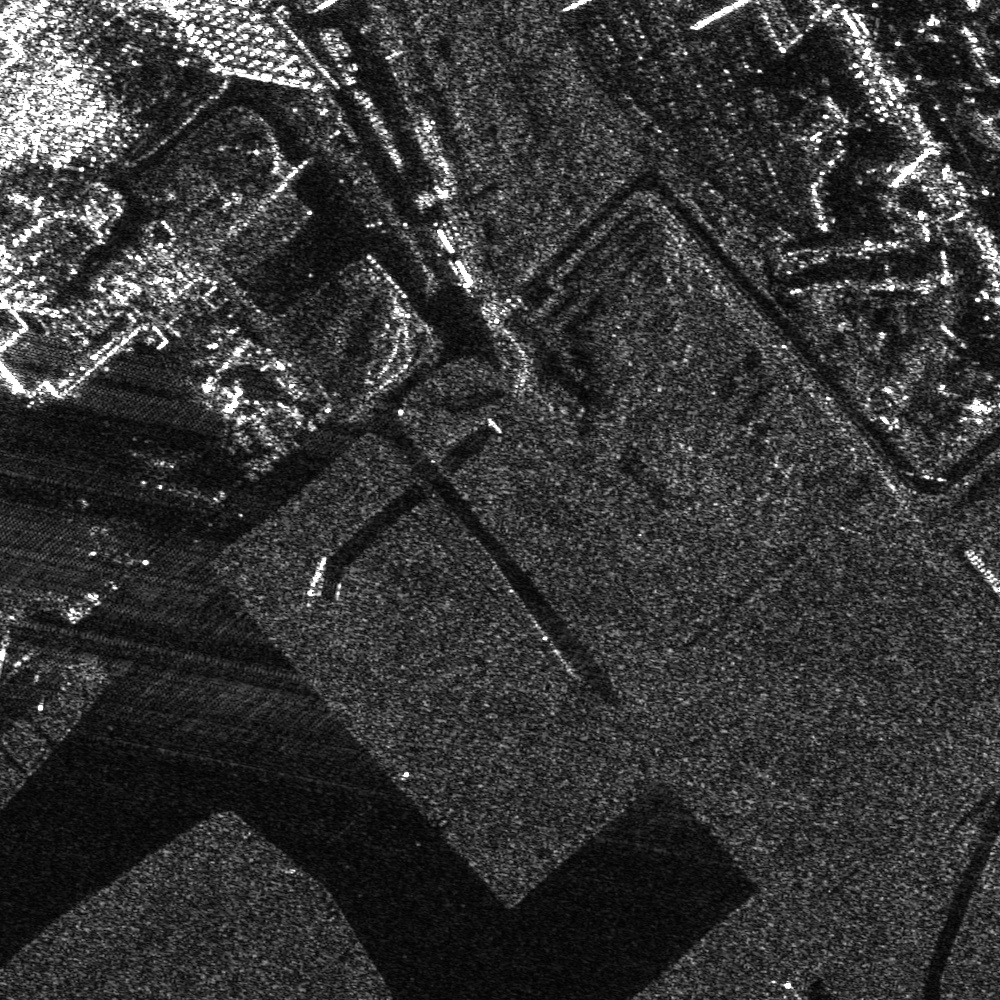Boeing737: (74, 491, 140, 571), (135, 445, 206, 506)
